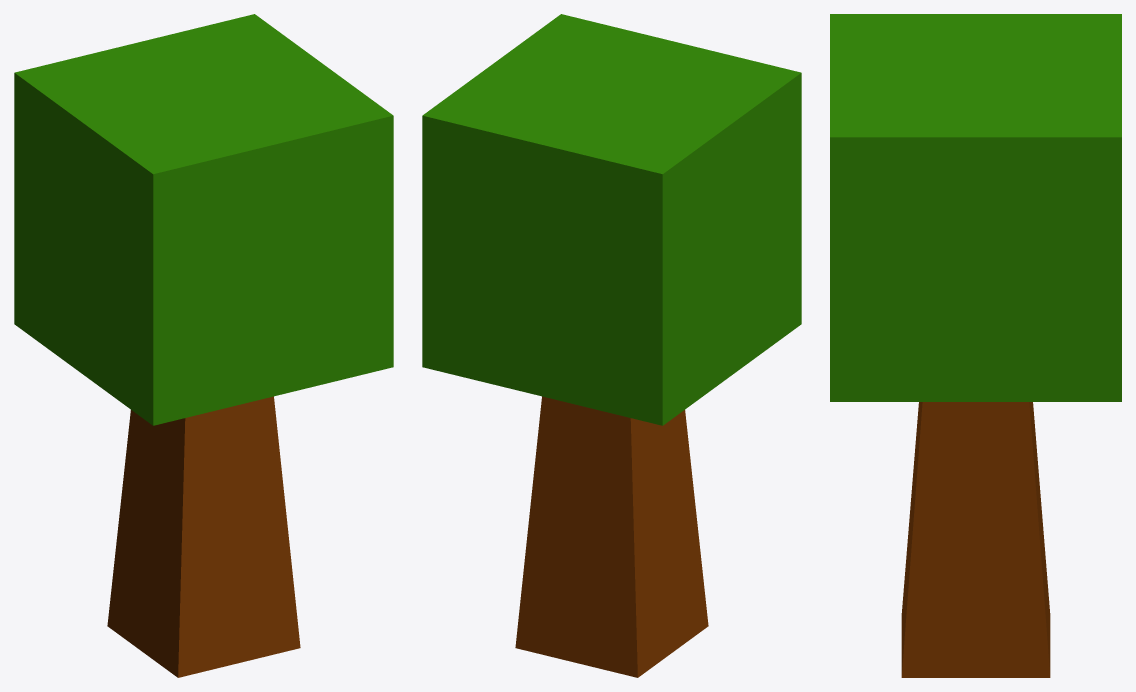
File: tree.fbx
3 renders of one model, left to right at view 1: azimuth 30°, elevation 25°; view 2: azimuth 150°, elevation 25°; view 3: azimuth 270°, elevation 25°, orthographic. The views are drawn at different scales.
Visible parts, largest first — view 1: Cube.001, Cube; view 2: Cube.001, Cube; view 3: Cube.001, Cube.
Boxes of the visible parts, x1,y1,x2,y2 form: Cube.001: (14,14,393,425); Cube: (107,396,300,677); Cube.001: (422,14,801,425); Cube: (515,396,708,677); Cube.001: (830,14,1121,401); Cube: (901,402,1050,677).
Size of the model in its own units: 393 by 847 by 393.
